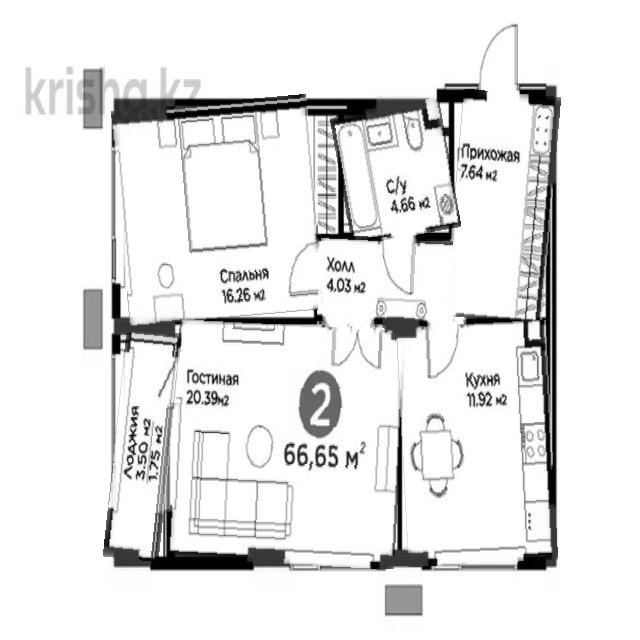balcony: (109, 329, 177, 561)
bathroom: (335, 102, 456, 242)
hallway: (449, 91, 557, 323), (318, 236, 452, 329)
kitchen: (399, 322, 555, 566)
living_room: (170, 322, 403, 567), (116, 98, 321, 322)
